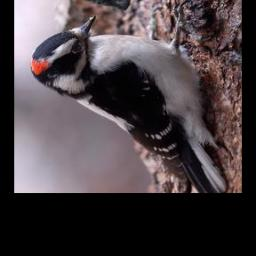Woodpecker: (26, 11, 229, 191)
